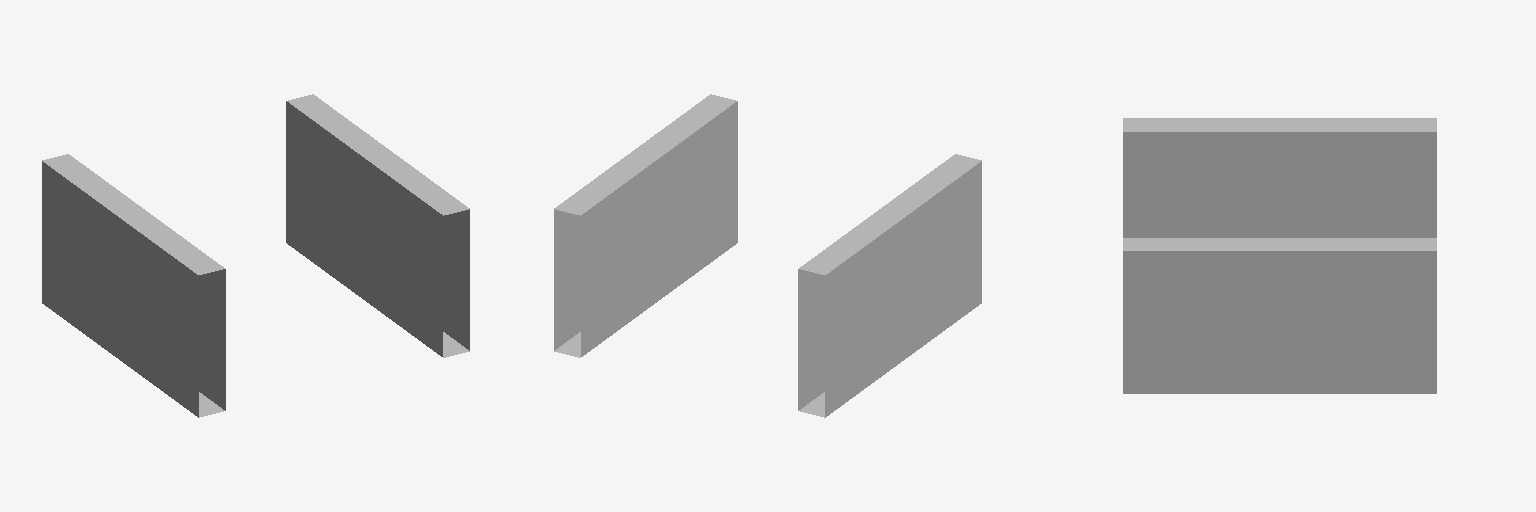
The model's file is Stairs_Exterior_Sides.obj.
The picture shows the model from 3 angles: view 1: azimuth 30°, elevation 25°; view 2: azimuth 150°, elevation 25°; view 3: azimuth 270°, elevation 25°; orthographic projection.
Parts seen in each view (by area): view 1: Stairs_Exterior_Sides; view 2: Stairs_Exterior_Sides; view 3: Stairs_Exterior_Sides.
Part boxes in pixels (left/top/right/bottom): Stairs_Exterior_Sides: left=42, top=94, right=469, bottom=417; Stairs_Exterior_Sides: left=554, top=94, right=981, bottom=417; Stairs_Exterior_Sides: left=1123, top=118, right=1436, bottom=393.
Size of the model in its own units: 2 by 1 by 2.